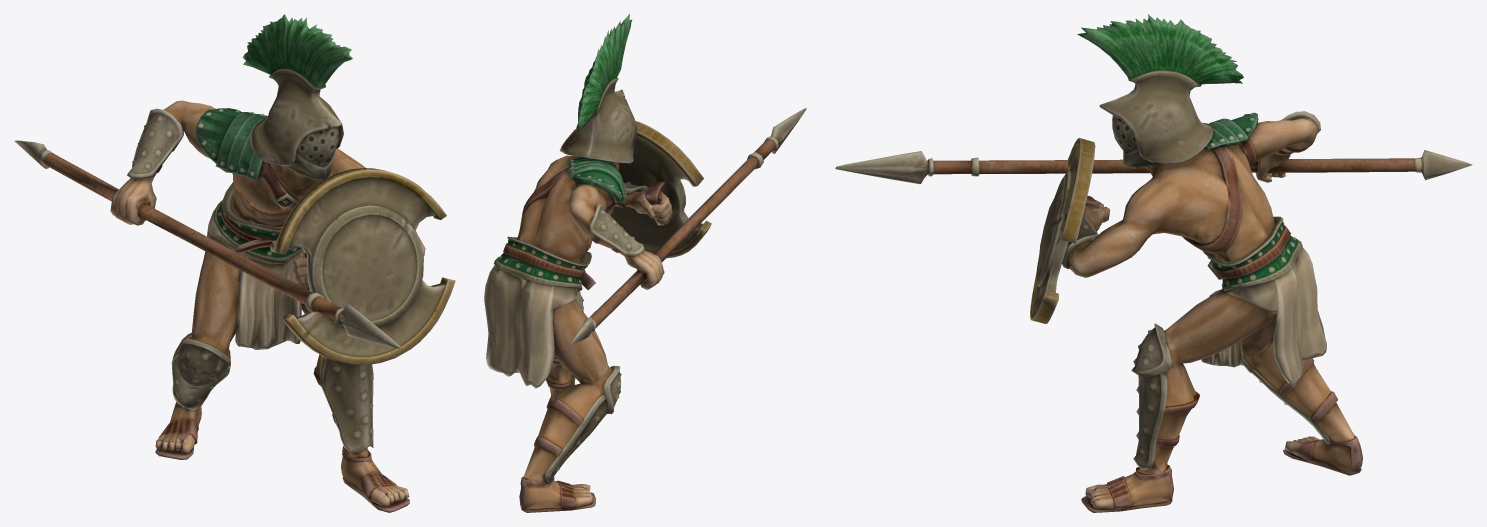
Rendered from MZ4250 - Gladiator Male 02.glb.
3 renders of one model, left to right at view 1: azimuth 30°, elevation 25°; view 2: azimuth 150°, elevation 25°; view 3: azimuth 270°, elevation 25°, orthographic. The views are drawn at different scales.
Parts seen in each view (by area): view 1: GladiatorMale; view 2: GladiatorMale; view 3: GladiatorMale.
Boxes of the visible parts, x1,y1,x2,y2 form: GladiatorMale: (14, 14, 455, 512); GladiatorMale: (484, 14, 806, 512); GladiatorMale: (835, 14, 1472, 512).
Size of the model in its own units: 0.5143 by 1.07 by 1.34.
Materials: 1 (1 with a texture image).
